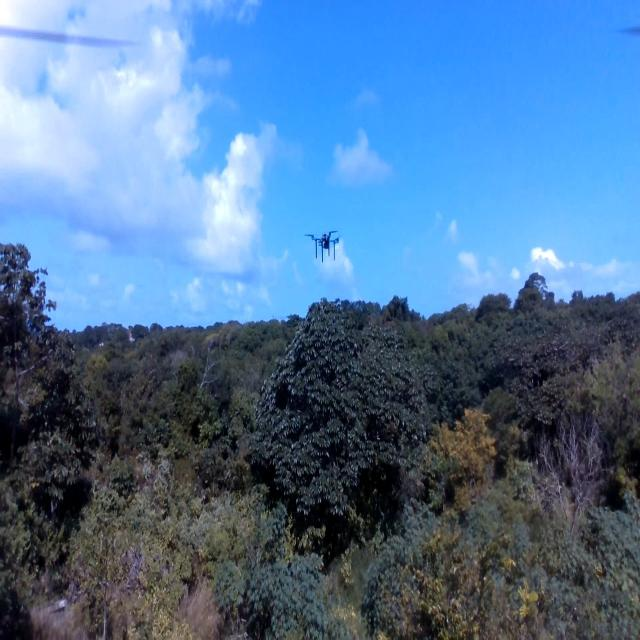-uav-: (300, 220, 346, 272)
